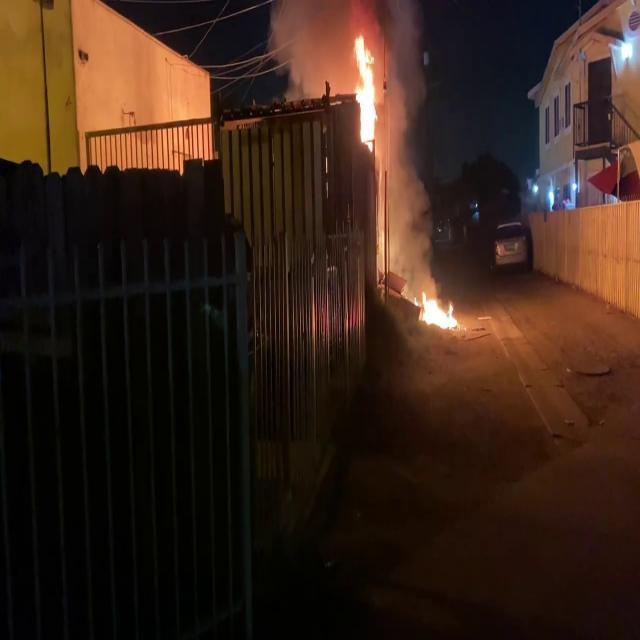Fire: (350, 27, 382, 153), (416, 279, 460, 335)
Smoke: (376, 2, 436, 288), (264, 0, 356, 97)
